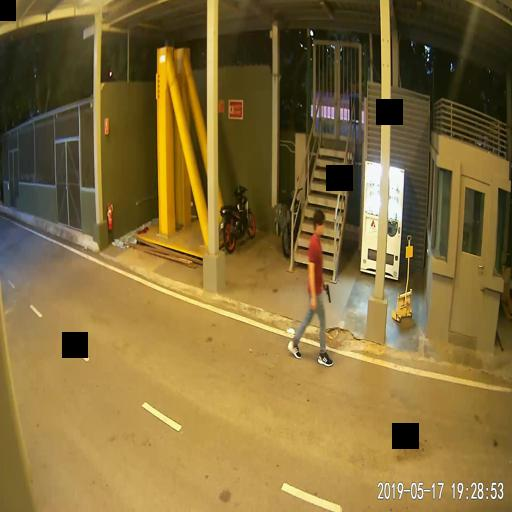Handgun: (322, 281, 329, 303)
